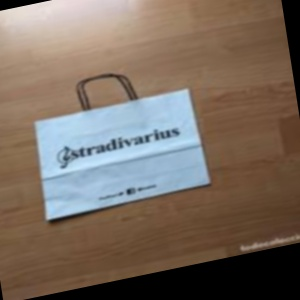stradivarius: (143, 40, 228, 191)
